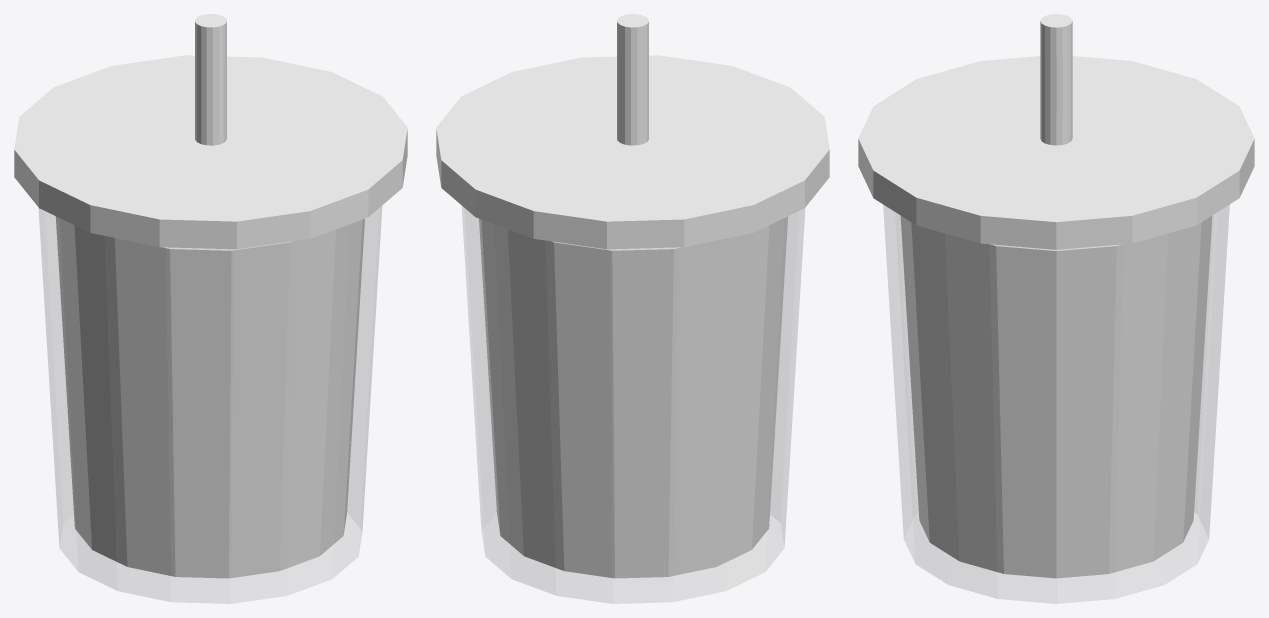
Rendered from JuiceShake.fbx.
3 views of the same model, side by side, from view 1: azimuth 30°, elevation 25°; view 2: azimuth 150°, elevation 25°; view 3: azimuth 270°, elevation 25° (orthographic).
Parts seen in each view (by area): view 1: Bottle, Juice, Lid; view 2: Bottle, Juice, Lid; view 3: Bottle, Juice, Lid.
Boxes of the visible parts, x1,y1,x2,y2 form: Bottle: (39, 206, 381, 603); Juice: (55, 216, 364, 578); Lid: (14, 14, 407, 249); Bottle: (462, 206, 804, 603); Juice: (479, 216, 788, 578); Lid: (436, 14, 829, 249); Bottle: (883, 205, 1229, 603); Juice: (900, 216, 1212, 578); Lid: (858, 14, 1254, 249).
Bounding box in the file's own units: 260 × 375 × 260.
